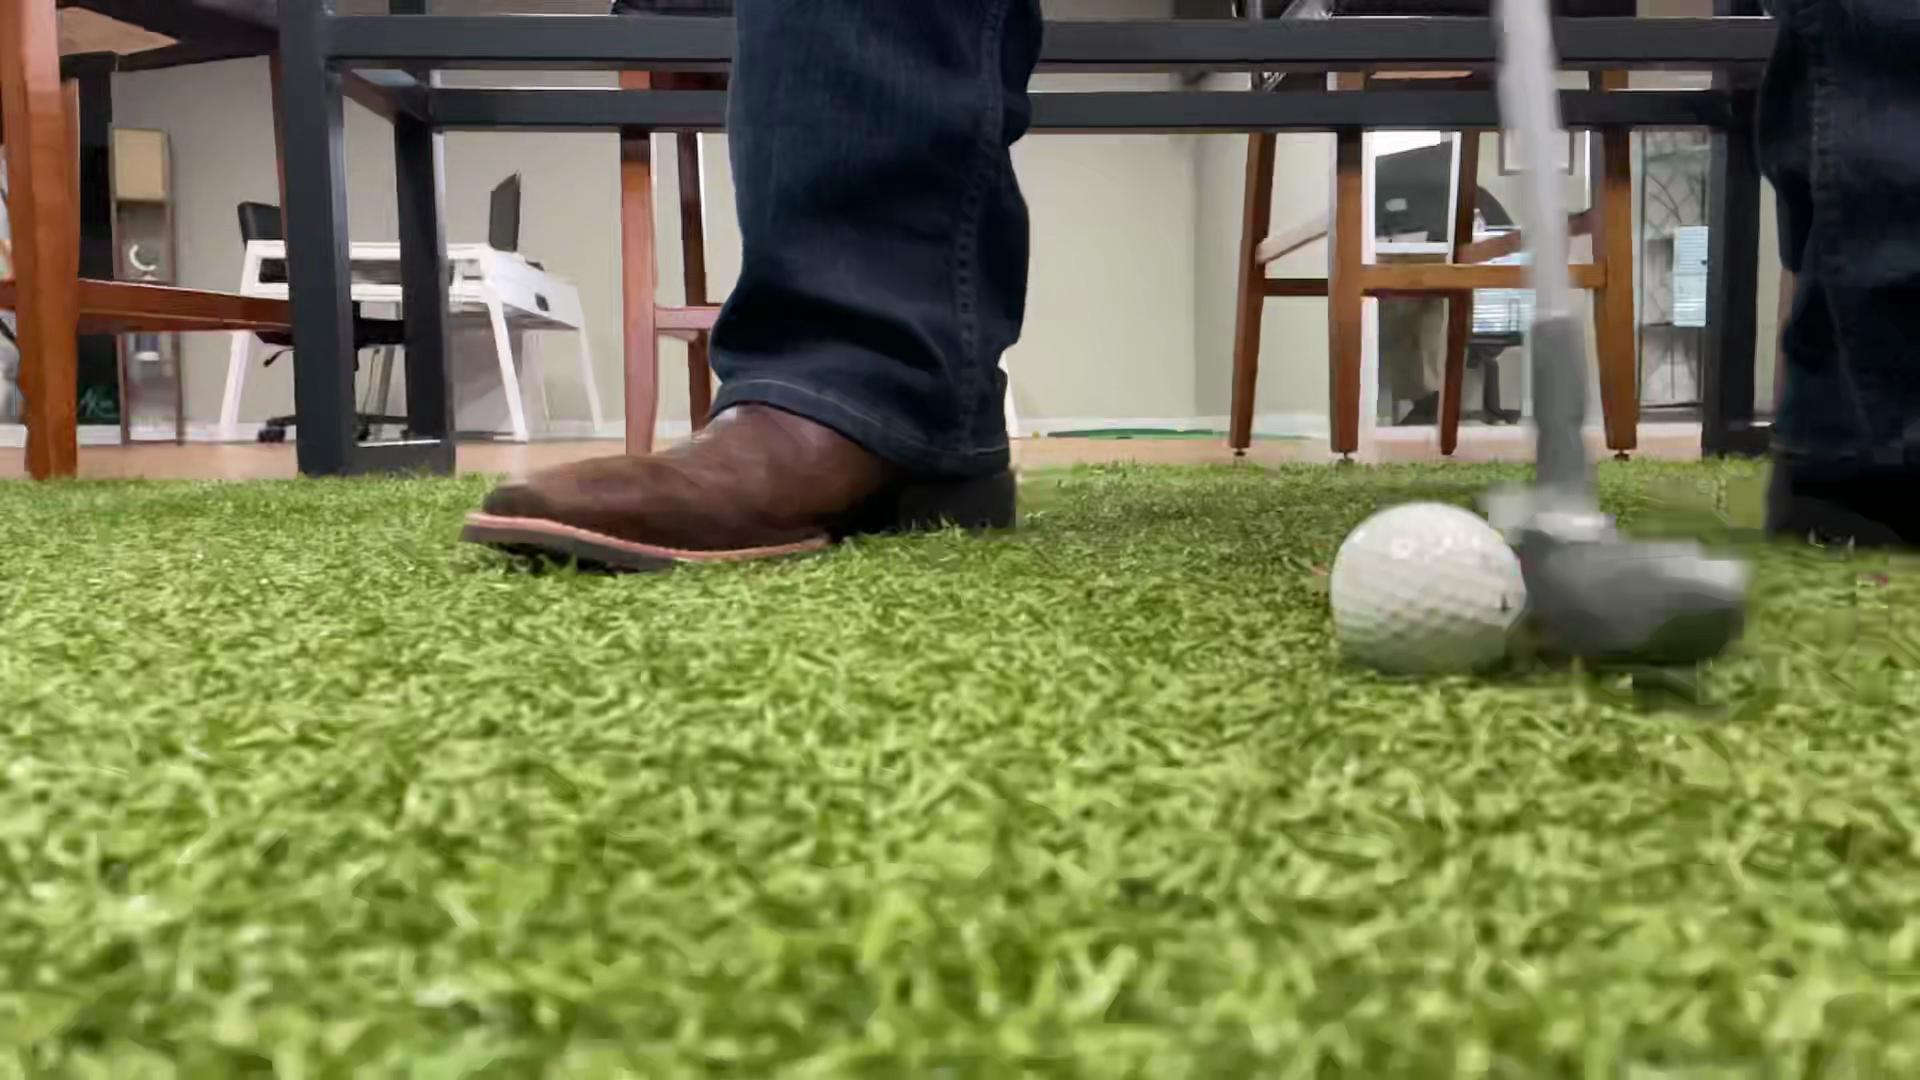golfball: (1330, 502, 1529, 678)
